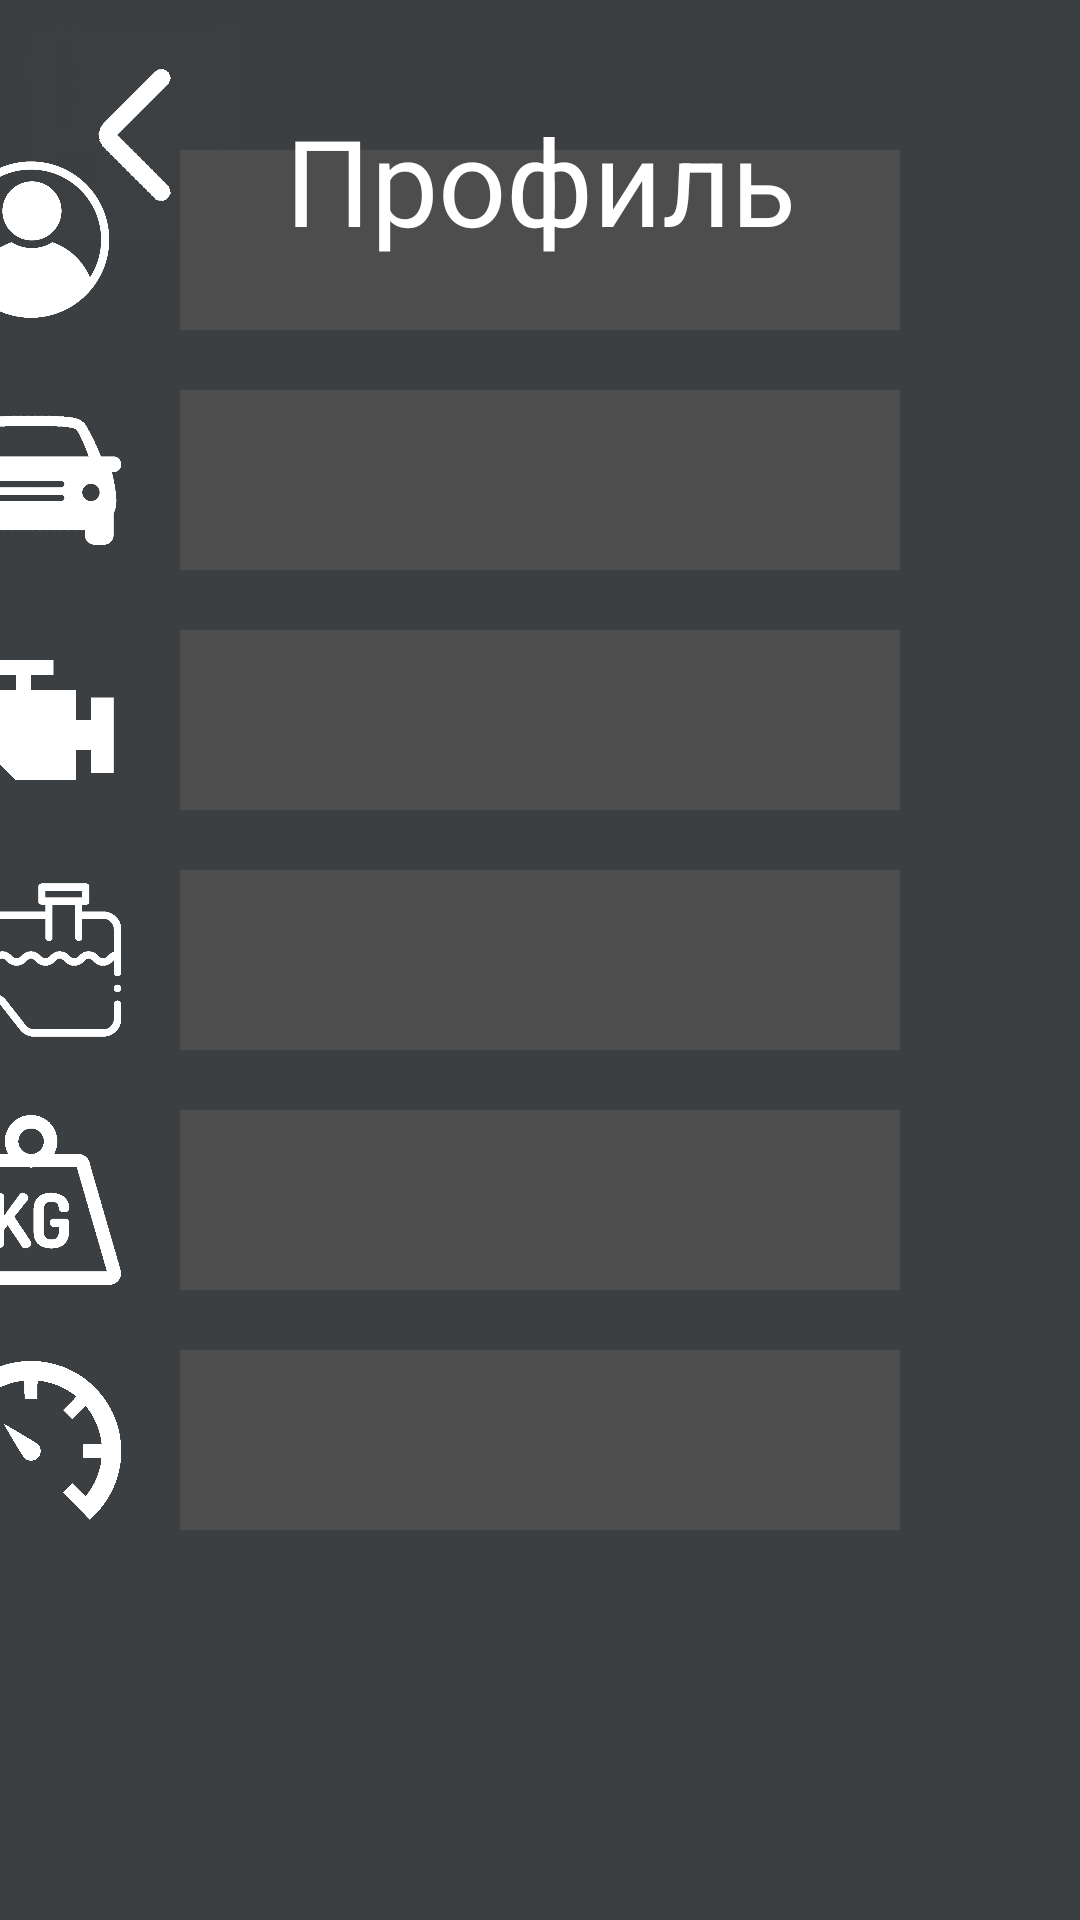

Icon click points for this 1080w x 1920h phone screenshot, format (x,y):
arrow: (134,135)
